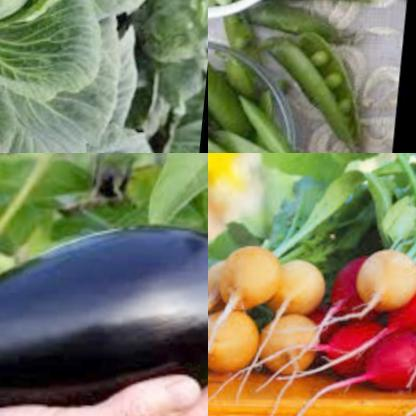cabbage: (0, 0, 134, 150), (88, 0, 208, 129), (46, 106, 183, 153)
eggplant: (0, 205, 208, 416)
peas: (268, 13, 380, 149), (208, 35, 312, 153), (220, 8, 268, 63), (291, 0, 377, 19)
rediska: (219, 240, 292, 314), (258, 311, 331, 383), (347, 238, 416, 310), (269, 248, 334, 319), (208, 303, 266, 379), (321, 318, 384, 384), (365, 322, 416, 392), (331, 250, 372, 319), (386, 262, 416, 334), (208, 249, 237, 316)
